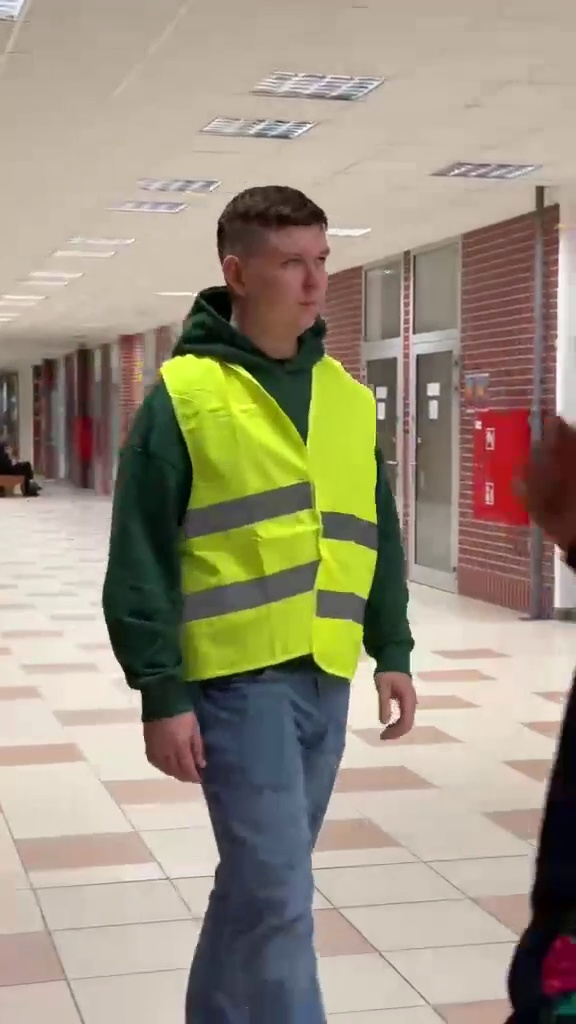vest: (96, 184, 419, 997)
